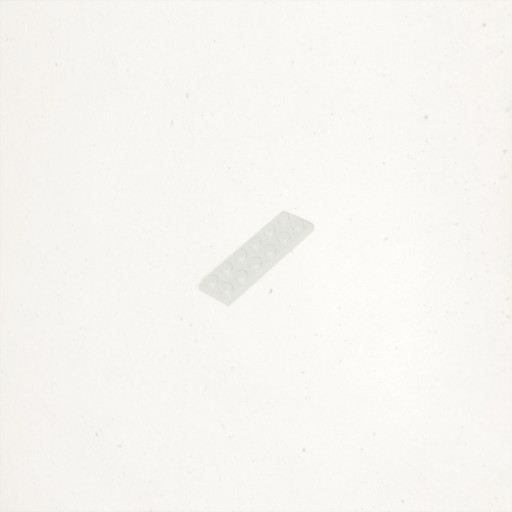lego: (198, 210, 314, 307)
